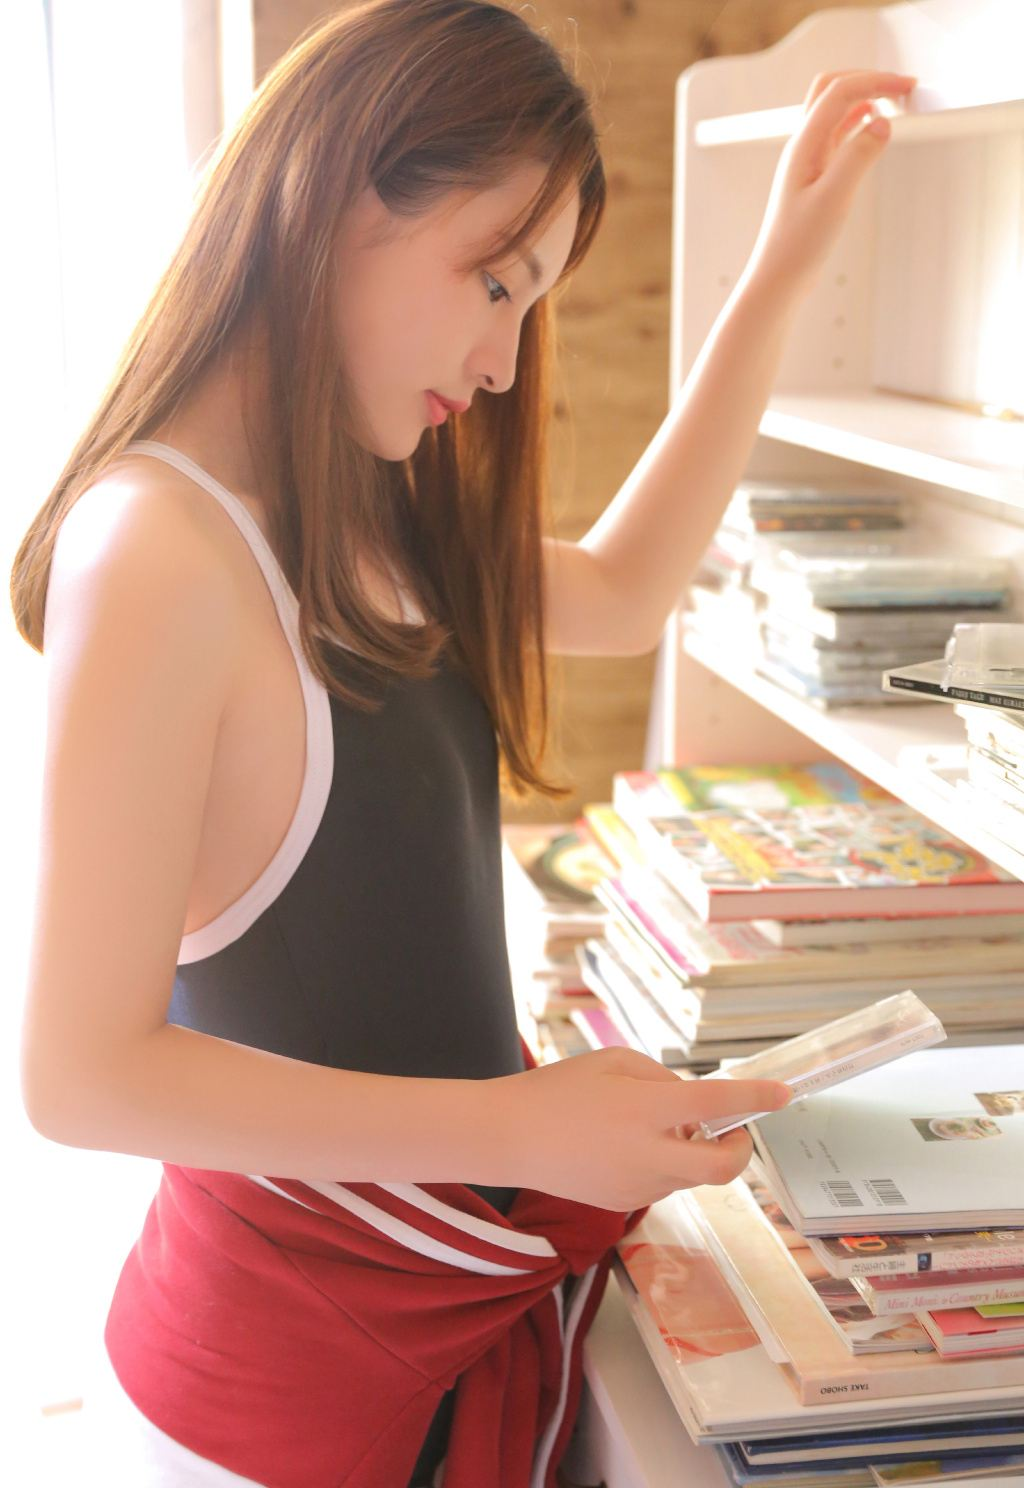person: (65, 5, 757, 1348)
